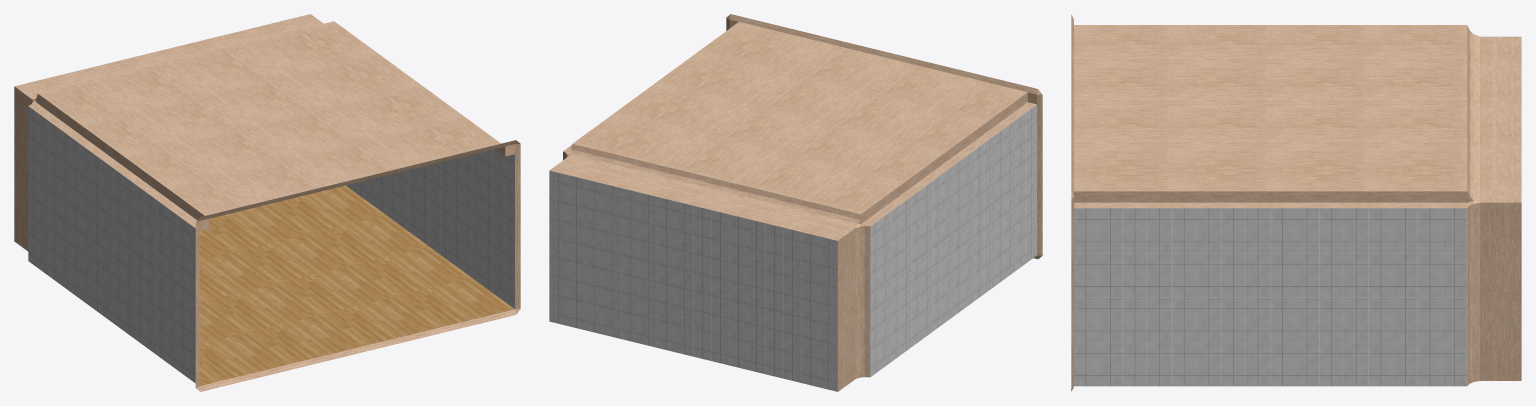
Rendered from bathroom.FBX.
3 renders of one model, left to right at view 1: azimuth 30°, elevation 25°; view 2: azimuth 150°, elevation 25°; view 3: azimuth 270°, elevation 25°, orthographic. The views are drawn at different scales.
Visible parts, largest first — view 1: Plane001; view 2: Plane001; view 3: Plane001.
Boxes of the visible parts, box(x1,y1,x2,y2) form: Plane001: box(14, 14, 520, 391); Plane001: box(549, 14, 1042, 391); Plane001: box(1071, 14, 1521, 391).
Bounding box in the file's own units: 439 × 226 × 458.
